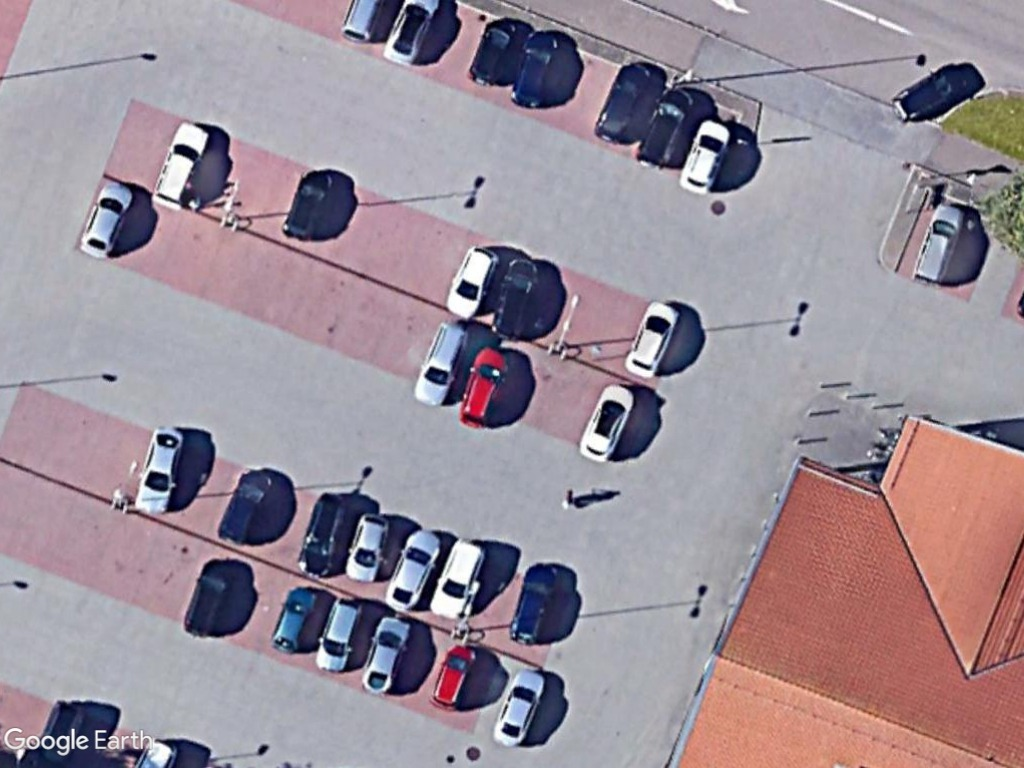car: (148, 115, 216, 210), (588, 57, 658, 146), (413, 315, 475, 411), (129, 422, 188, 520), (381, 524, 445, 614), (454, 340, 514, 434), (74, 179, 139, 265), (427, 533, 487, 625), (488, 661, 549, 750), (909, 202, 970, 289), (622, 297, 685, 381), (358, 612, 419, 697), (574, 381, 636, 464), (675, 115, 737, 196), (507, 25, 564, 111), (443, 242, 502, 322), (312, 590, 365, 678), (426, 637, 482, 712), (342, 508, 393, 588), (265, 581, 317, 653)
